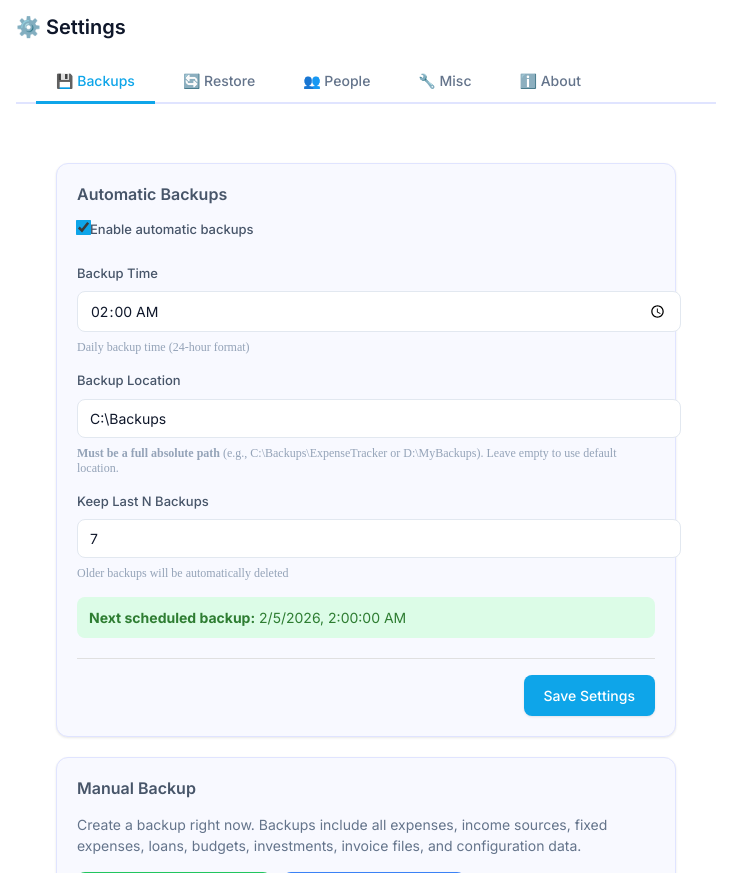
Test: BackupSettings › Tab navigation › should switch to People tab when clicked
This screenshot has width=733, height=873.
Click the button "👥 People" at (337, 82), box left=283, top=60, right=390, bottom=104
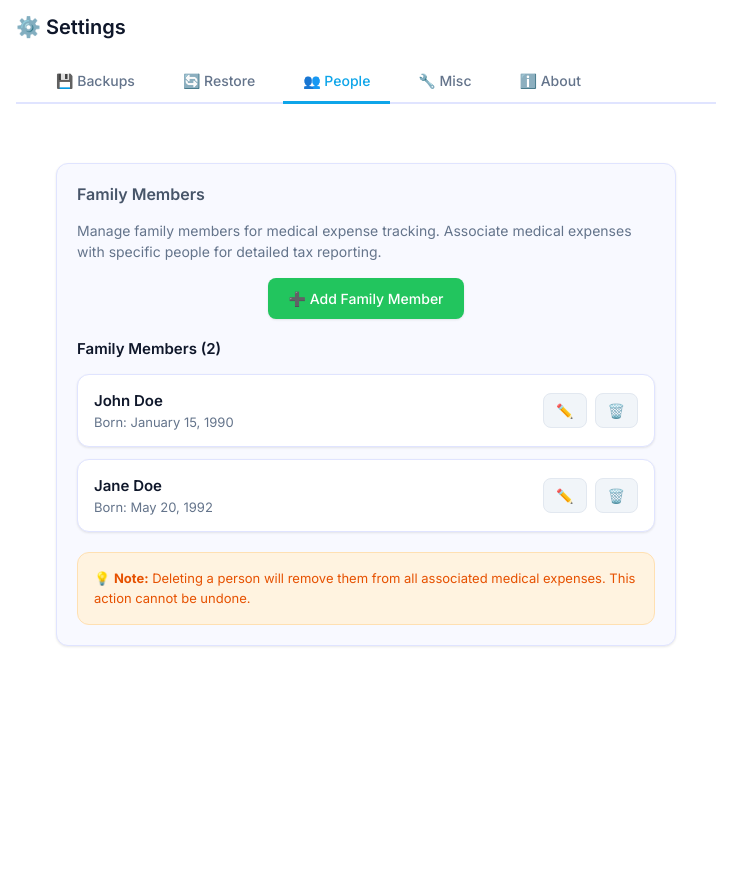
Expected: the heading "Family Members" is shown, left=77, top=184, right=205, bottom=204
